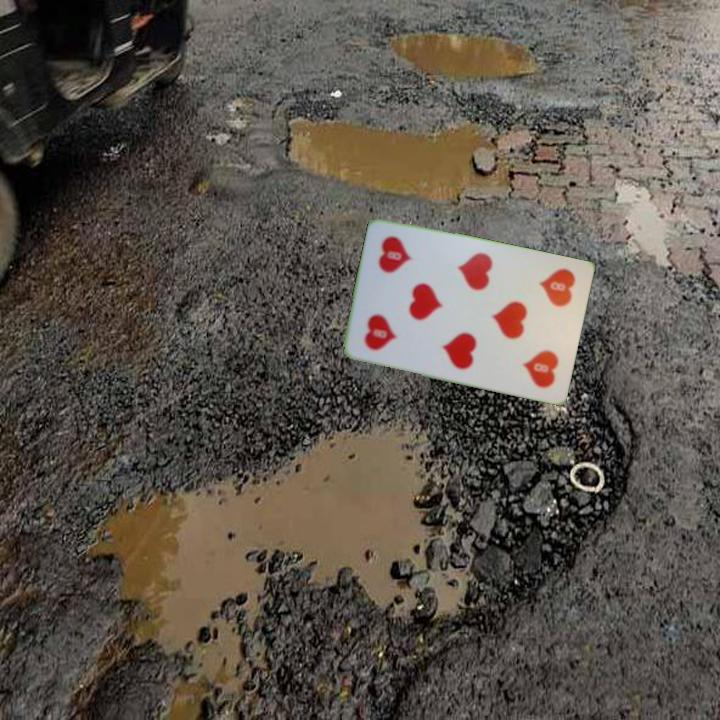h_8.png: (351, 285, 421, 362), (514, 258, 584, 335)
